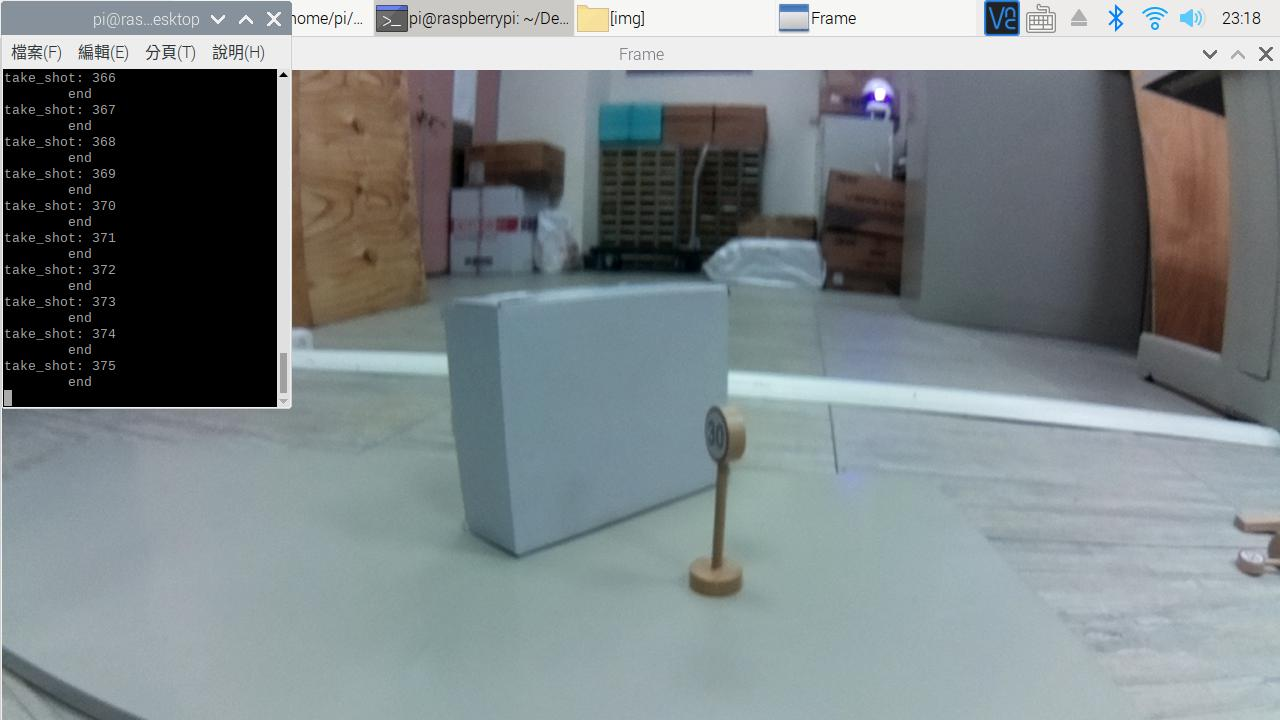Speed30: (689, 386, 770, 498)
